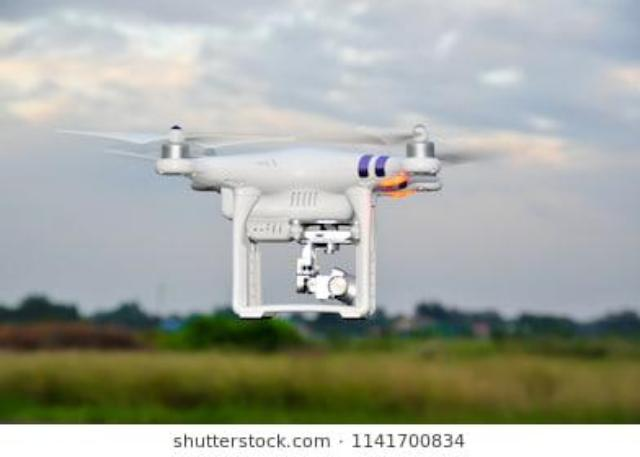drone: (41, 95, 540, 339)
